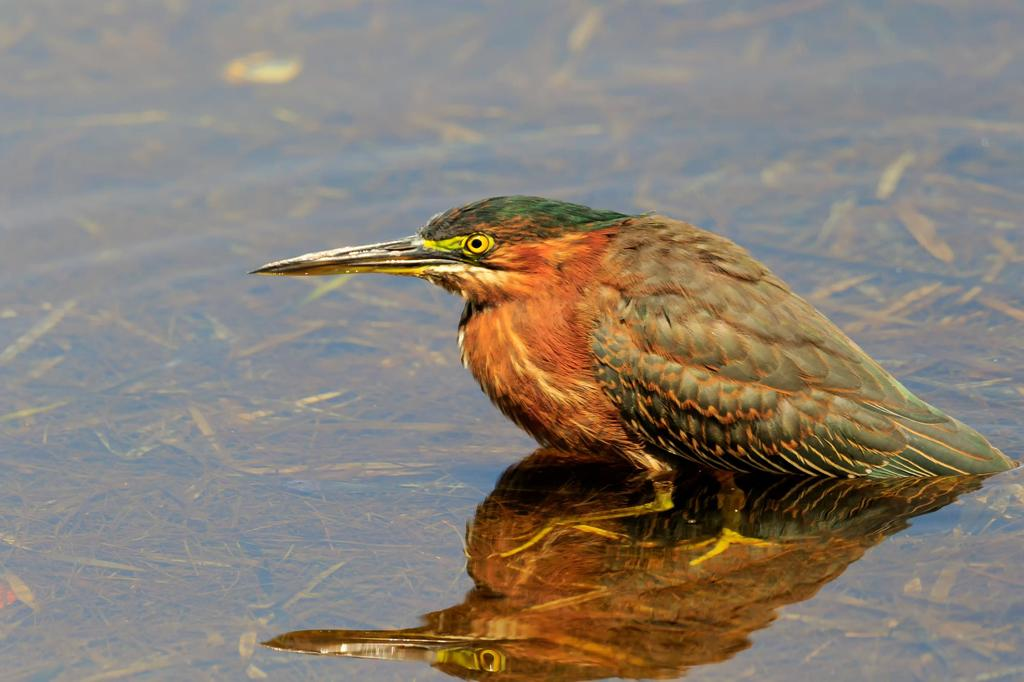Bird: (248, 195, 1018, 567)
